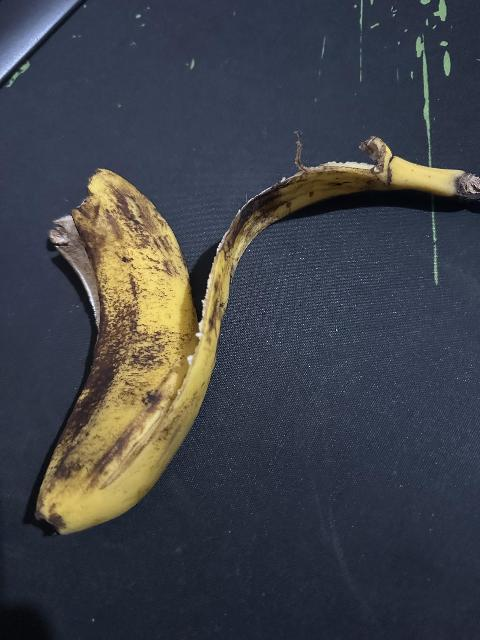Organik: (33, 144, 229, 546), (235, 138, 480, 298)
